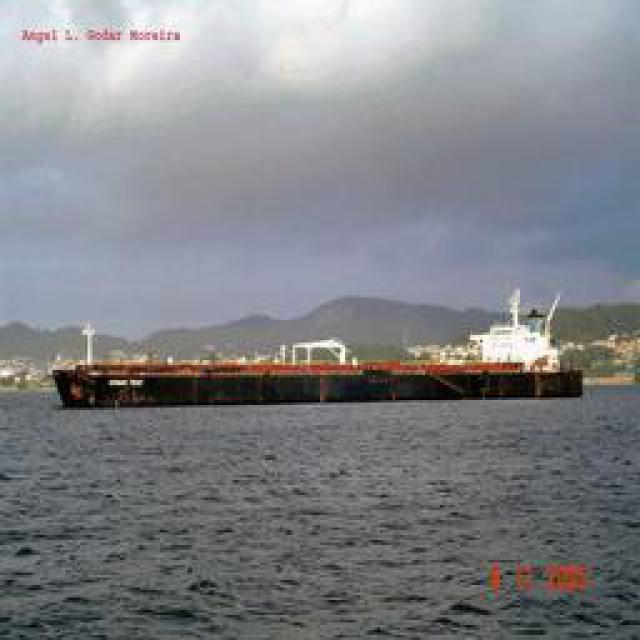Ship: (56, 313, 589, 408)
